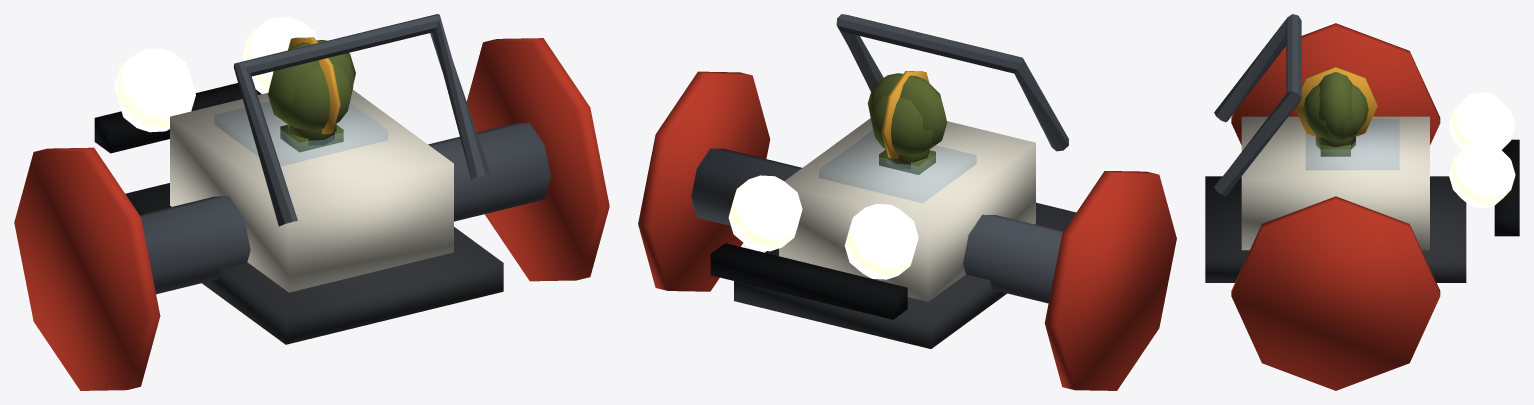
The model's file is axel_clean.glb.
3 renders of one model, left to right at view 1: azimuth 30°, elevation 25°; view 2: azimuth 150°, elevation 25°; view 3: azimuth 270°, elevation 25°, orthographic. The views are drawn at different scales.
Parts seen in each view (by area): view 1: Axel; view 2: Axel; view 3: Axel.
Boxes of the visible parts, x1,y1,x2,y2 form: Axel: [14, 14, 609, 390]; Axel: [638, 14, 1176, 390]; Axel: [1205, 14, 1519, 390].
Bounding box in the file's own units: 2.02 × 1.31 × 1.51.
